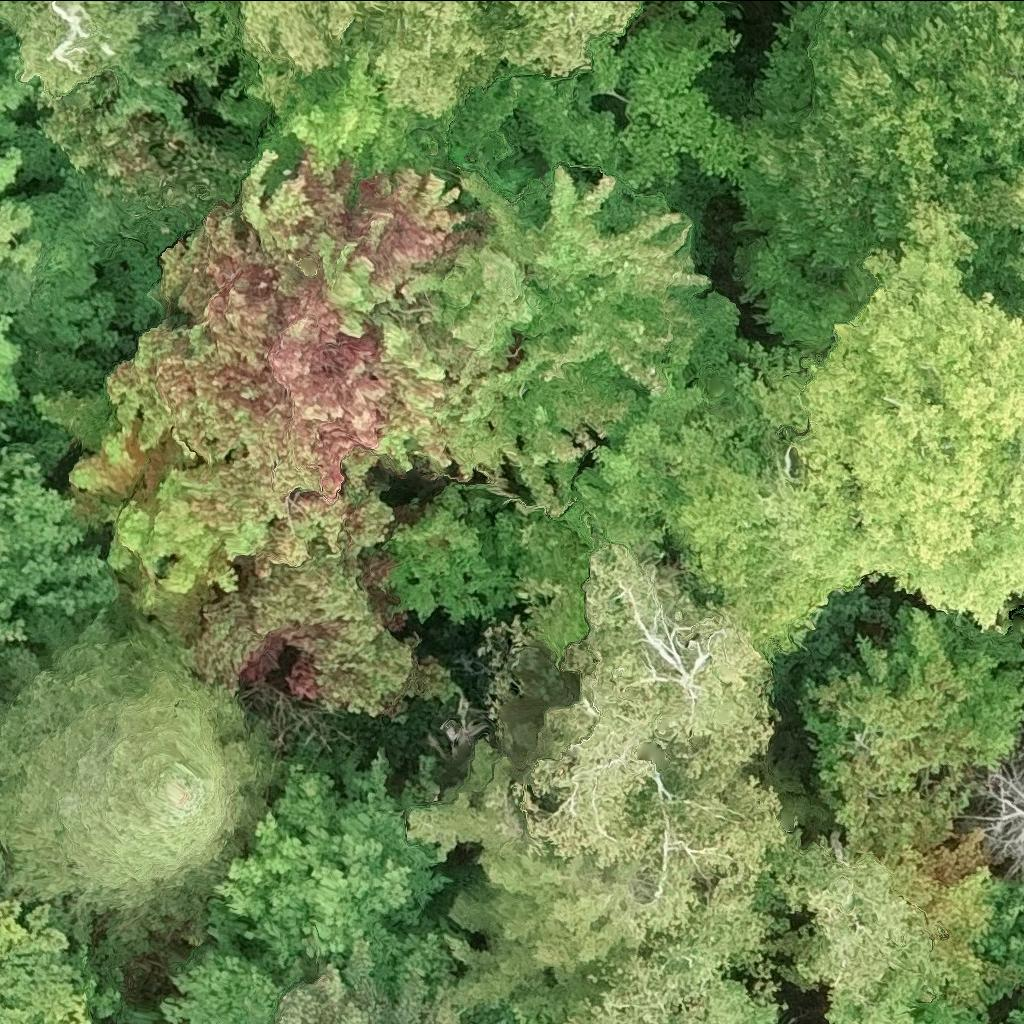crown: (35, 148, 500, 718), (578, 197, 1023, 653), (513, 542, 789, 1023), (406, 166, 708, 511), (734, 0, 1023, 352), (0, 642, 256, 920), (406, 742, 649, 1023), (212, 749, 459, 1004), (800, 601, 1023, 860), (234, 0, 638, 115), (0, 420, 121, 647), (277, 939, 517, 1023), (0, 841, 90, 1023), (164, 926, 332, 1023), (0, 0, 164, 98), (887, 830, 994, 967), (0, 197, 44, 401), (980, 752, 1023, 873), (427, 695, 486, 766), (0, 13, 43, 110), (997, 170, 1023, 226), (0, 147, 23, 193), (1004, 249, 1023, 278), (1010, 1011, 1023, 1023), (1019, 619, 1023, 632)
